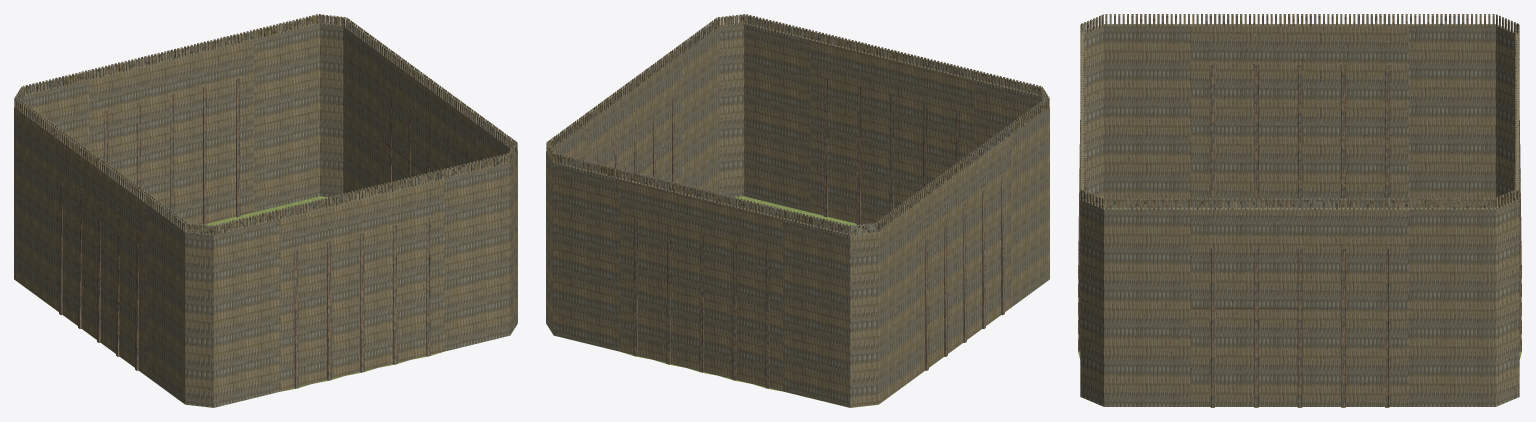
Rendered from map50Field1_Mini_Mini.ver2.fbx.
3 renders of one model, left to right at view 1: azimuth 30°, elevation 25°; view 2: azimuth 150°, elevation 25°; view 3: azimuth 270°, elevation 25°, orthographic. The views are drawn at different scales.
Parts seen in each view (by area): view 1: map50F_Layer2, map50F_Layer3, map50F_Layer4, map50F_Layer1; view 2: map50F_Layer2, map50F_Layer3, map50F_Layer4, map50F_Layer1; view 3: map50F_Layer2, map50F_Layer4, map50F_Layer3.
Boxes of the visible parts, bbox=[...] form: map50F_Layer2: bbox=[14, 23, 517, 407]; map50F_Layer3: bbox=[14, 14, 517, 235]; map50F_Layer4: bbox=[59, 78, 467, 388]; map50F_Layer1: bbox=[15, 196, 509, 407]; map50F_Layer2: bbox=[546, 23, 1049, 407]; map50F_Layer3: bbox=[546, 14, 1049, 235]; map50F_Layer4: bbox=[596, 78, 1004, 388]; map50F_Layer1: bbox=[554, 196, 1048, 407]; map50F_Layer2: bbox=[1080, 24, 1519, 406]; map50F_Layer4: bbox=[1078, 65, 1521, 407]; map50F_Layer3: bbox=[1080, 14, 1519, 209].
Size of the model in its own units: 20.4 by 10.51 by 20.4.
4 materials, 4 textured.
